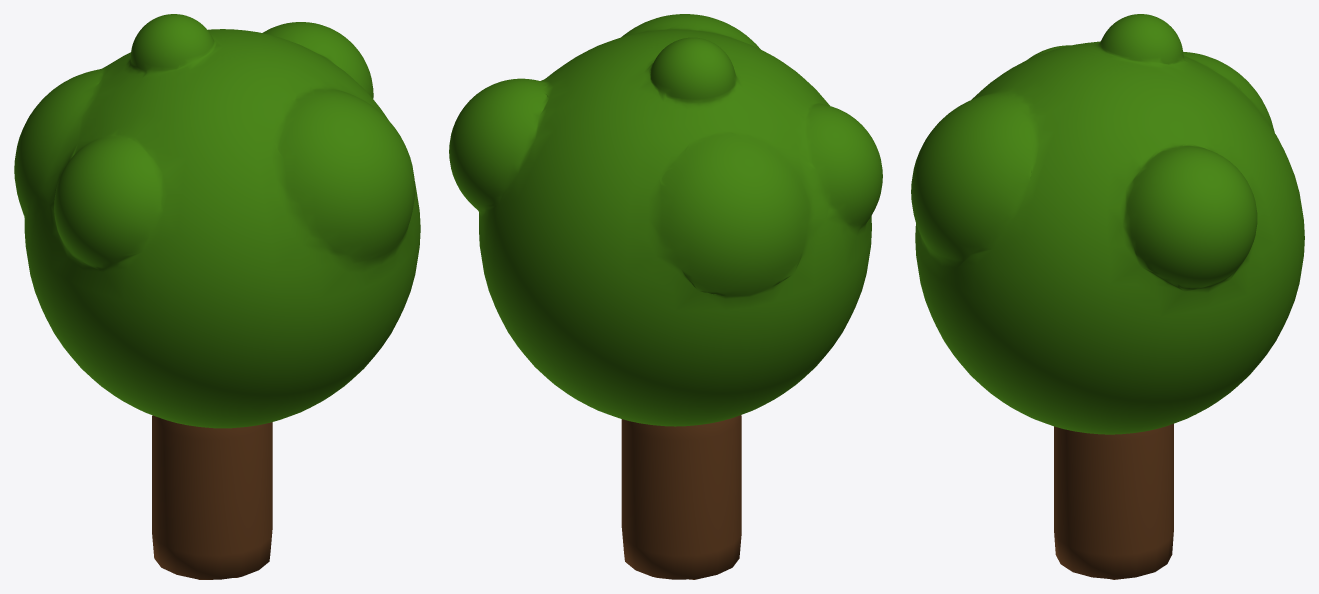
Rendered from SM_Baum_02.fbx.
3 renders of one model, left to right at view 1: azimuth 30°, elevation 25°; view 2: azimuth 150°, elevation 25°; view 3: azimuth 270°, elevation 25°, orthographic.
Visible parts, largest first — view 1: Baum_02.001; view 2: Baum_02.001; view 3: Baum_02.001.
Boxes of the visible parts, x1=… form: Baum_02.001: x1=14, y1=14, x2=420, y2=579; Baum_02.001: x1=449, y1=14, x2=882, y2=579; Baum_02.001: x1=911, y1=14, x2=1304, y2=579.
Bounding box in the file's own units: 232 × 333 × 224.
